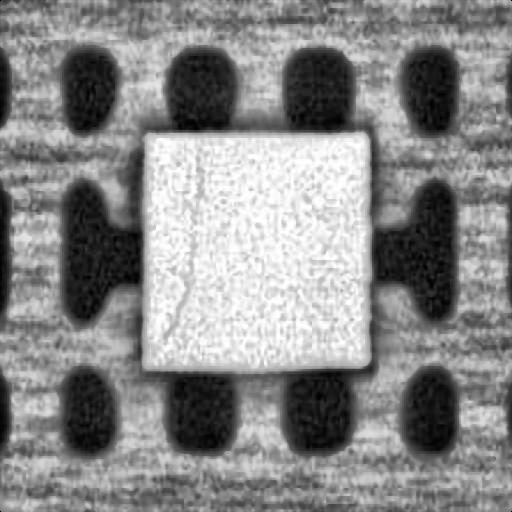DIE_CRACK: (154, 156, 202, 345)
